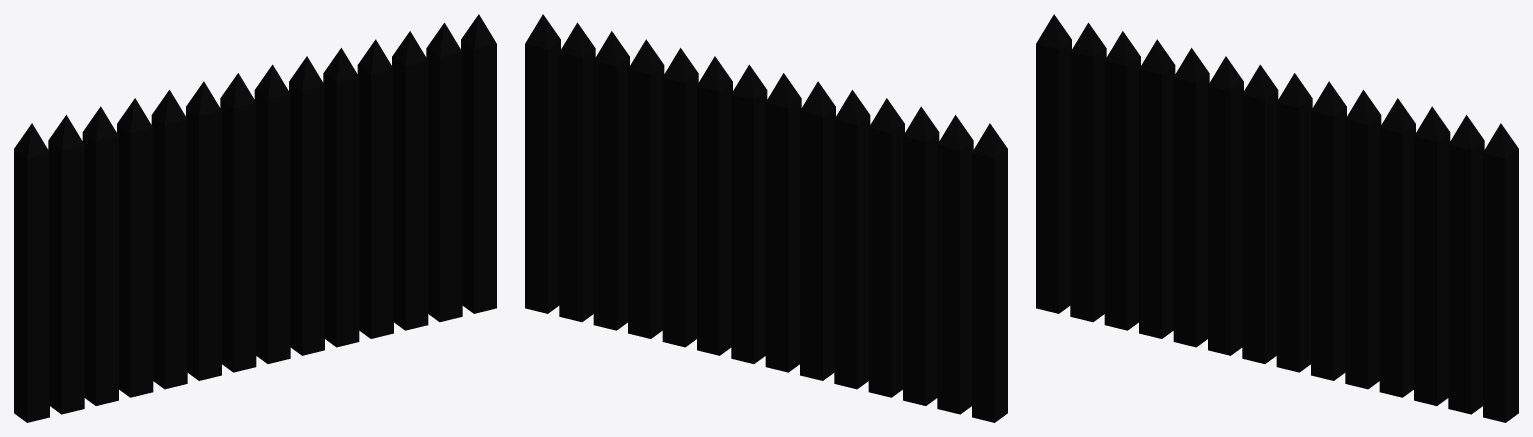
Rendered from door.glb.
3 views of the same model, side by side, from view 1: azimuth 30°, elevation 25°; view 2: azimuth 150°, elevation 25°; view 3: azimuth 330°, elevation 25° (orthographic).
Visible parts, largest first — view 1: Cube.001; view 2: Cube.001; view 3: Cube.001.
Part boxes in pixels (x1,y1,x2,y2): Cube.001: (14,14,496,422); Cube.001: (525,14,1007,422); Cube.001: (1036,14,1518,422).
Size of the model in its own units: 41 by 24.38 by 2.
1 material, 1 textured.
